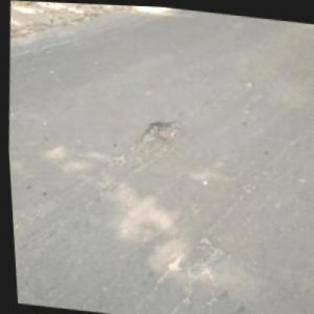Hueco: (138, 113, 182, 148), (162, 254, 182, 271), (33, 5, 59, 18), (240, 76, 254, 86), (20, 1, 32, 8), (36, 1, 48, 5)
